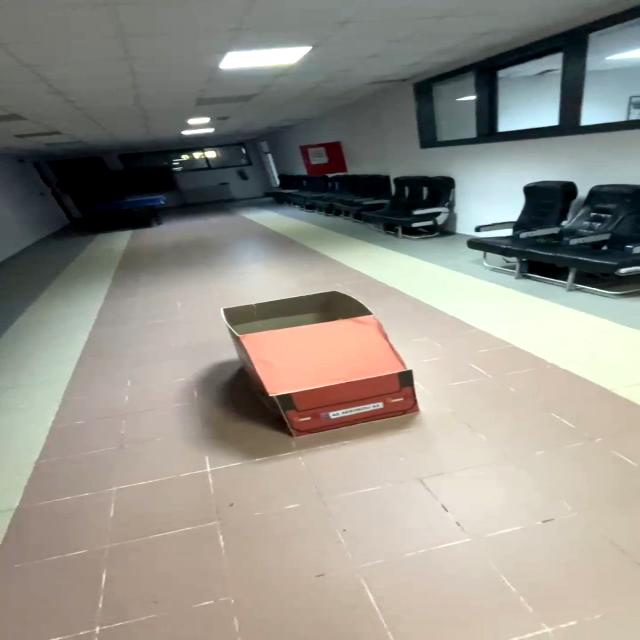red_car: (192, 272, 450, 454)
